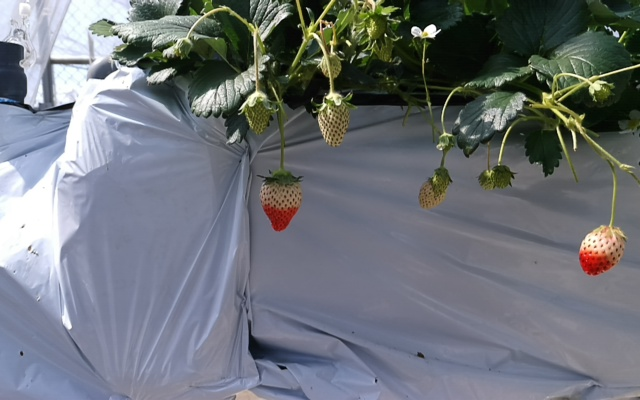GreenStrawberry: (259, 169, 305, 234), (577, 223, 627, 279), (316, 91, 352, 146), (416, 168, 451, 212), (244, 91, 272, 136), (320, 49, 342, 80)
